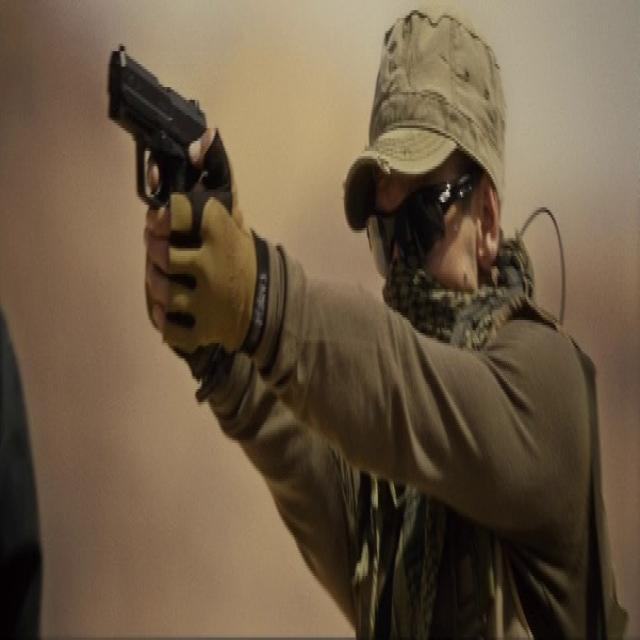weapons: (95, 15, 238, 384)
